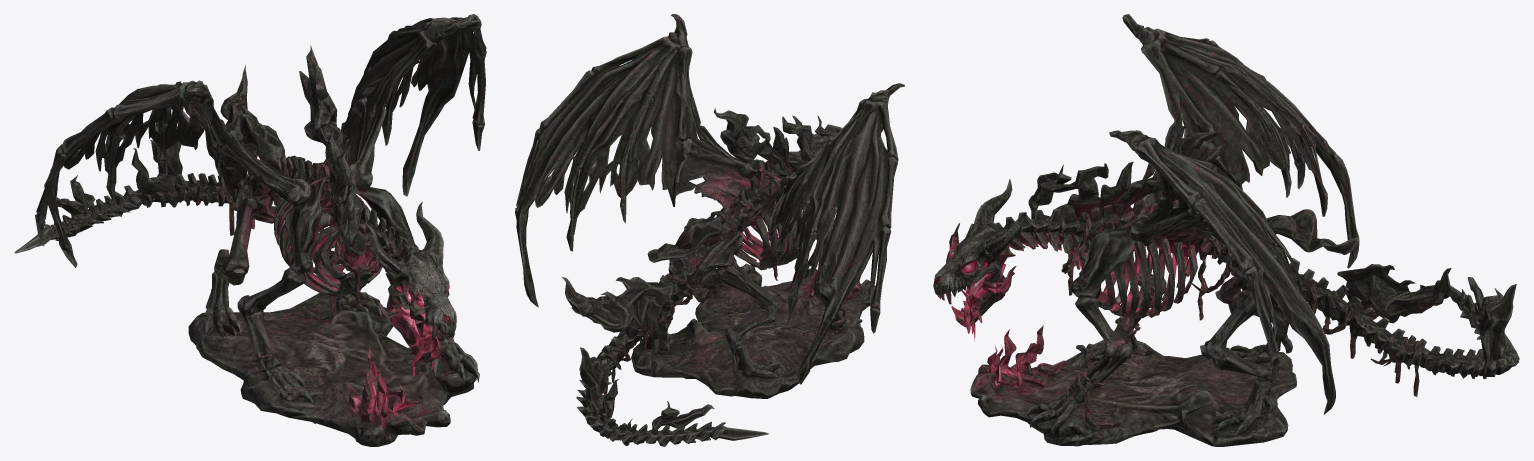
The model's file is model.opt.c.glb.
3 renders of one model, left to right at view 1: azimuth 30°, elevation 25°; view 2: azimuth 150°, elevation 25°; view 3: azimuth 270°, elevation 25°, orthographic. The views are drawn at different scales.
Visible parts, largest first — view 1: Mesh_0; view 2: Mesh_0; view 3: Mesh_0.
Boxes of the visible parts, box(x1,y1,x2,y2) form: Mesh_0: box(14, 14, 486, 446); Mesh_0: box(515, 14, 904, 446); Mesh_0: box(933, 14, 1519, 446).
Bounding box in the file's own units: 1.55 × 1.16 × 1.89.
1 material, 1 textured.
